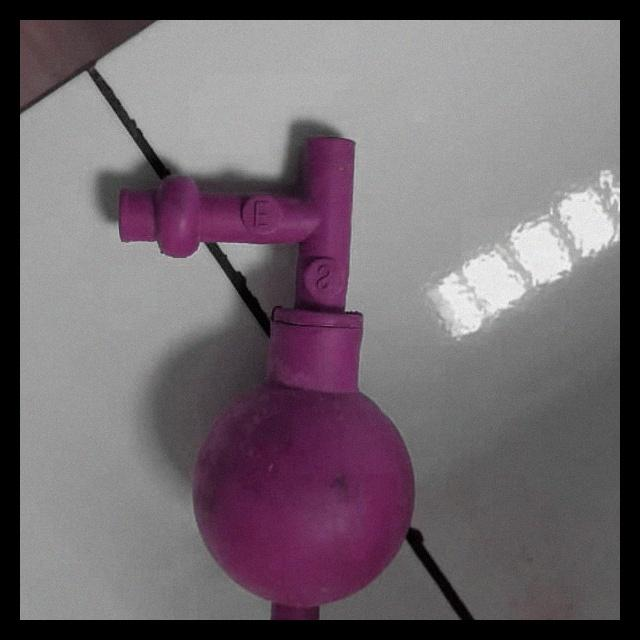Droppers: (108, 124, 472, 620)
